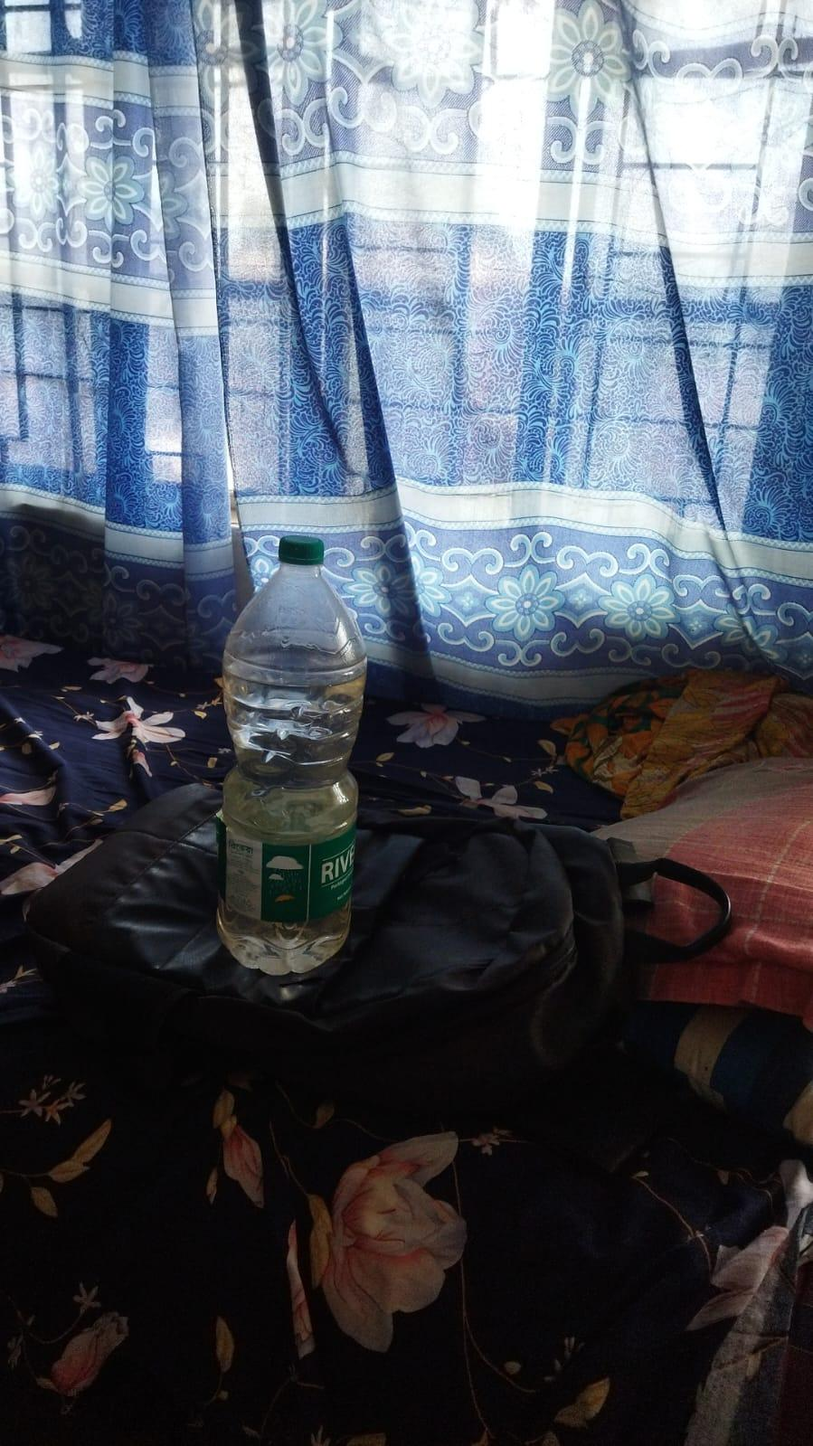Bag: (19, 764, 617, 1070)
Bottle: (199, 502, 376, 959)
Pillow: (615, 697, 798, 1060)
